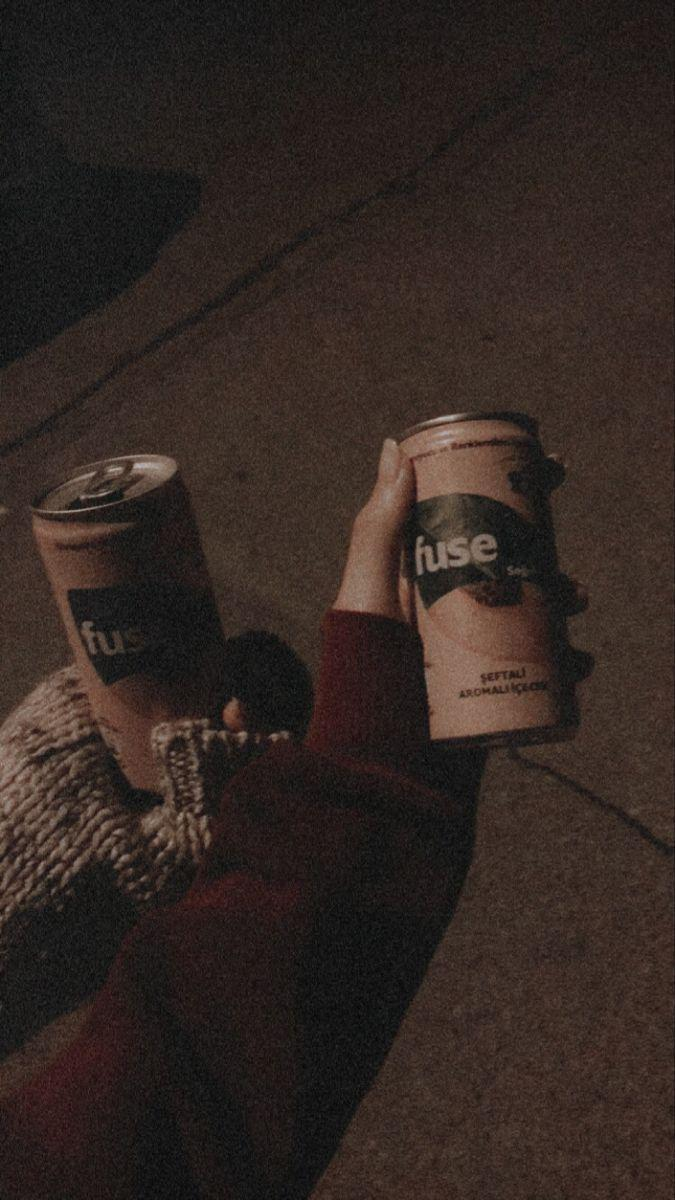tin can: (28, 452, 223, 785), (395, 410, 572, 737)
